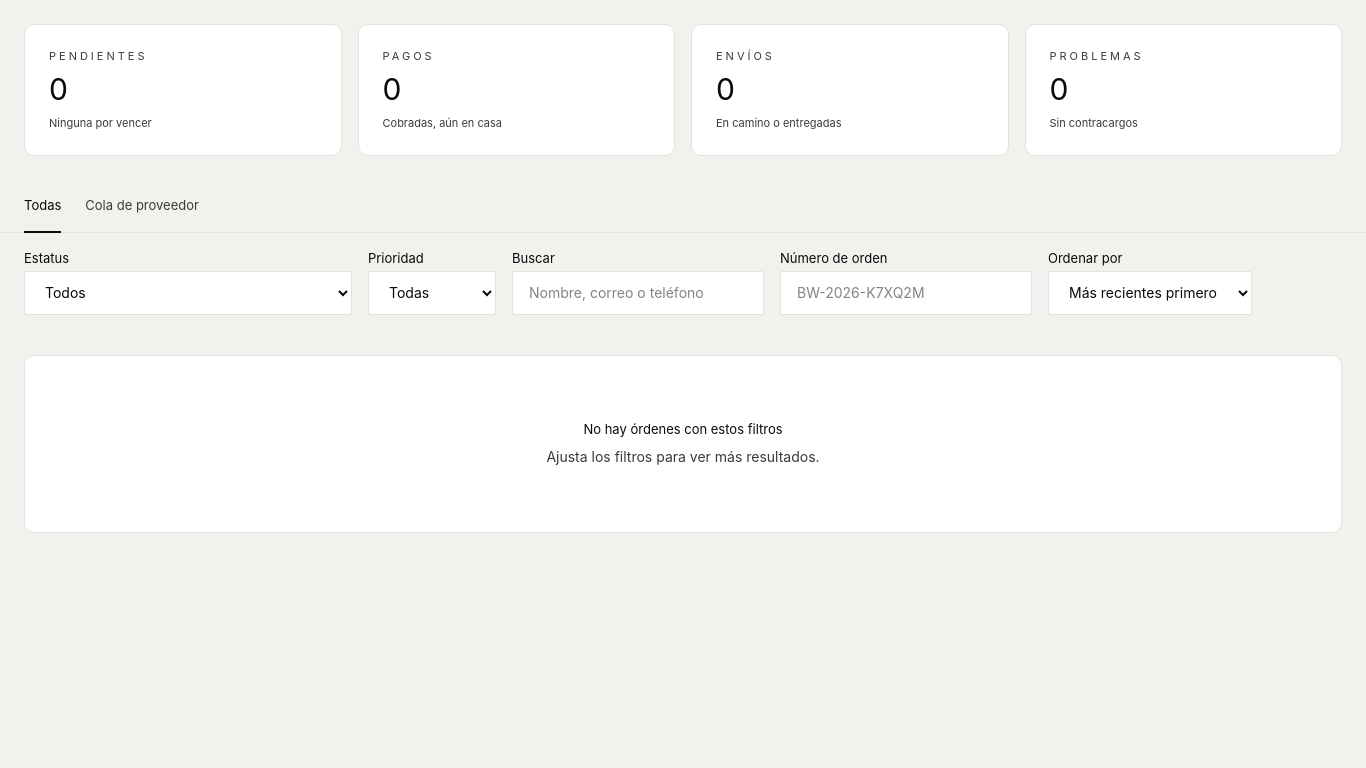
Test: OrdersView › shows the queue's own empty state once switched to 'Cola de proveedor'
Expected: the text "No hay órdenes con estos filtros" is shown, [583,420,782,438]
Click the tab "Cola de proveedor" at (142, 206), box [85,180,199,233]
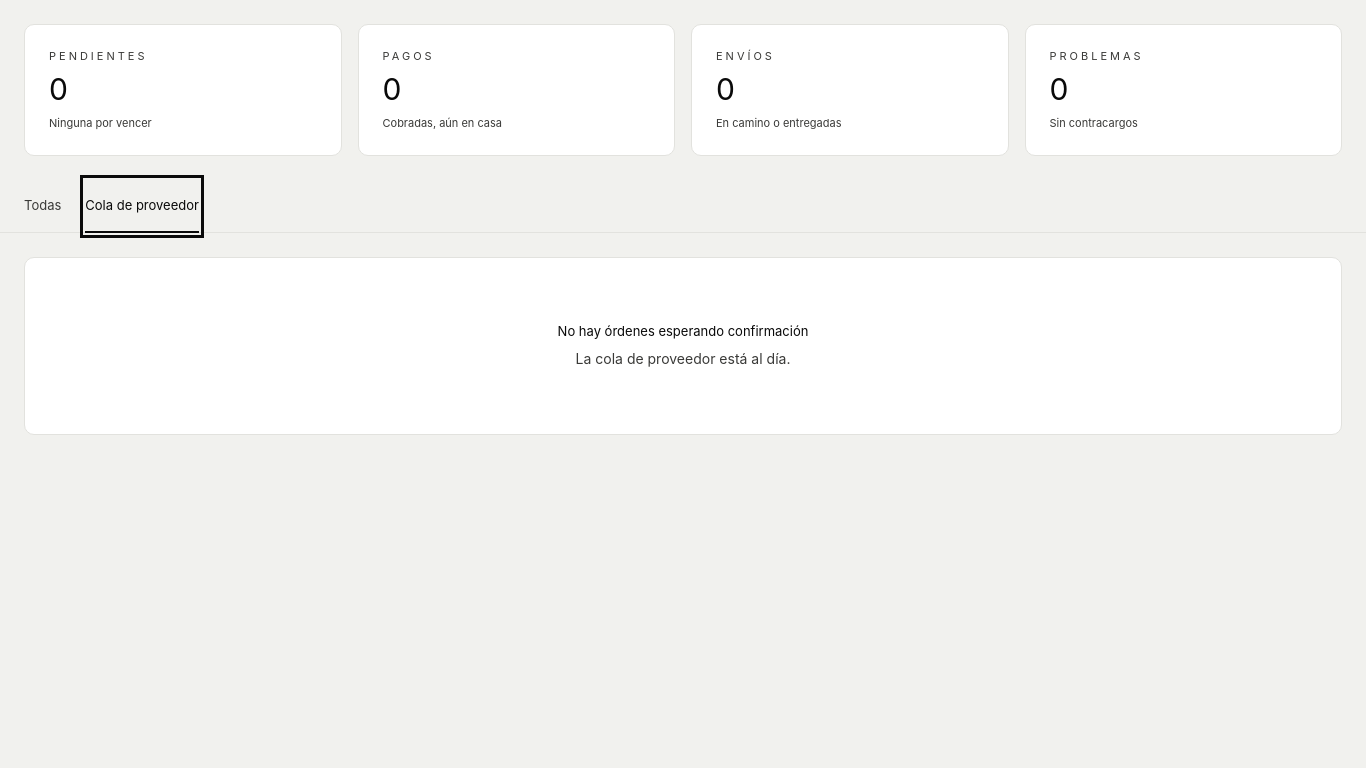
Now the text "No hay órdenes esperando confirmación" is shown, box [558,322,808,340]
